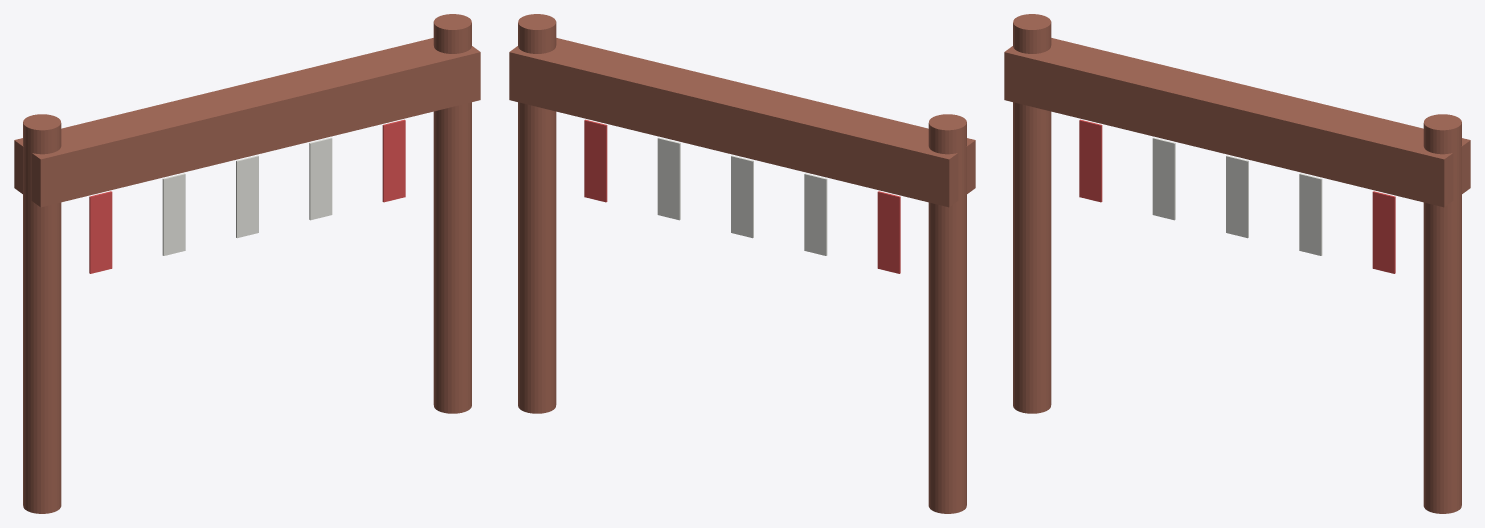
File: obstacle_high_gate.glb
3 renders of one model, left to right at view 1: azimuth 30°, elevation 25°; view 2: azimuth 150°, elevation 25°; view 3: azimuth 330°, elevation 25°, orthographic.
Parts seen in each view (by area): view 1: Cube, Cylinder, Cylinder.001, Cube.004, Cube.002, Cube.005, Cube.001, Cube.003; view 2: Cube, Cylinder, Cylinder.001, Cube.004, Cube.002, Cube.005, Cube.001, Cube.003; view 3: Cube, Cylinder.001, Cylinder, Cube.002, Cube.001, Cube.004, Cube.005, Cube.003.
Part boxes in pixels (x1,y1,x2,y2): Cube: (14, 38, 480, 207); Cylinder: (23, 114, 61, 513); Cylinder.001: (433, 14, 471, 413); Cube.004: (309, 137, 332, 220); Cube.002: (162, 173, 185, 255); Cube.005: (382, 119, 405, 202); Cube.001: (89, 191, 112, 273); Cube.003: (236, 155, 258, 238); Cube: (509, 38, 975, 207); Cylinder: (928, 114, 966, 513); Cylinder.001: (518, 14, 556, 413); Cube.004: (657, 137, 680, 220); Cube.002: (804, 173, 827, 255); Cube.005: (584, 119, 607, 202); Cube.001: (877, 191, 900, 273); Cube.003: (731, 155, 753, 238); Cube: (1004, 38, 1470, 207); Cylinder.001: (1423, 114, 1461, 513); Cylinder: (1013, 14, 1051, 413); Cube.002: (1152, 137, 1175, 220); Cube.001: (1079, 119, 1102, 202); Cube.004: (1299, 173, 1322, 255); Cube.005: (1372, 191, 1395, 273); Cube.003: (1226, 155, 1248, 238).
Bounding box in the file's own units: 2.42 × 2 × 0.25.
